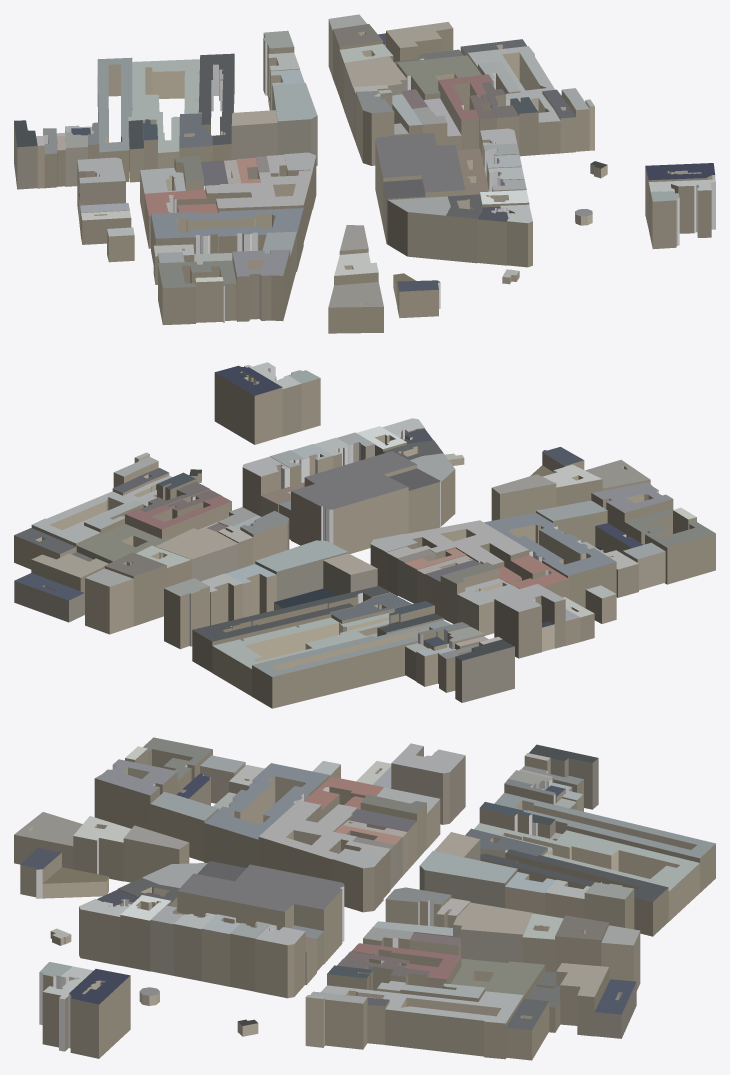
3 renders of one model, top to bottom at view 1: azimuth 30°, elevation 25°; view 2: azimuth 150°, elevation 25°; view 3: azimuth 270°, elevation 25°, orthographic. The views are drawn at different scales.
Visible parts, largest first — view 1: tuile; view 2: tuile; view 3: tuile.
Boxes of the visible parts, bbox=[...] form: tuile: bbox=[14, 14, 715, 333]; tuile: bbox=[14, 362, 715, 708]; tuile: bbox=[14, 737, 715, 1060].
Size of the model in its own units: 282 by 29.23 by 293.
